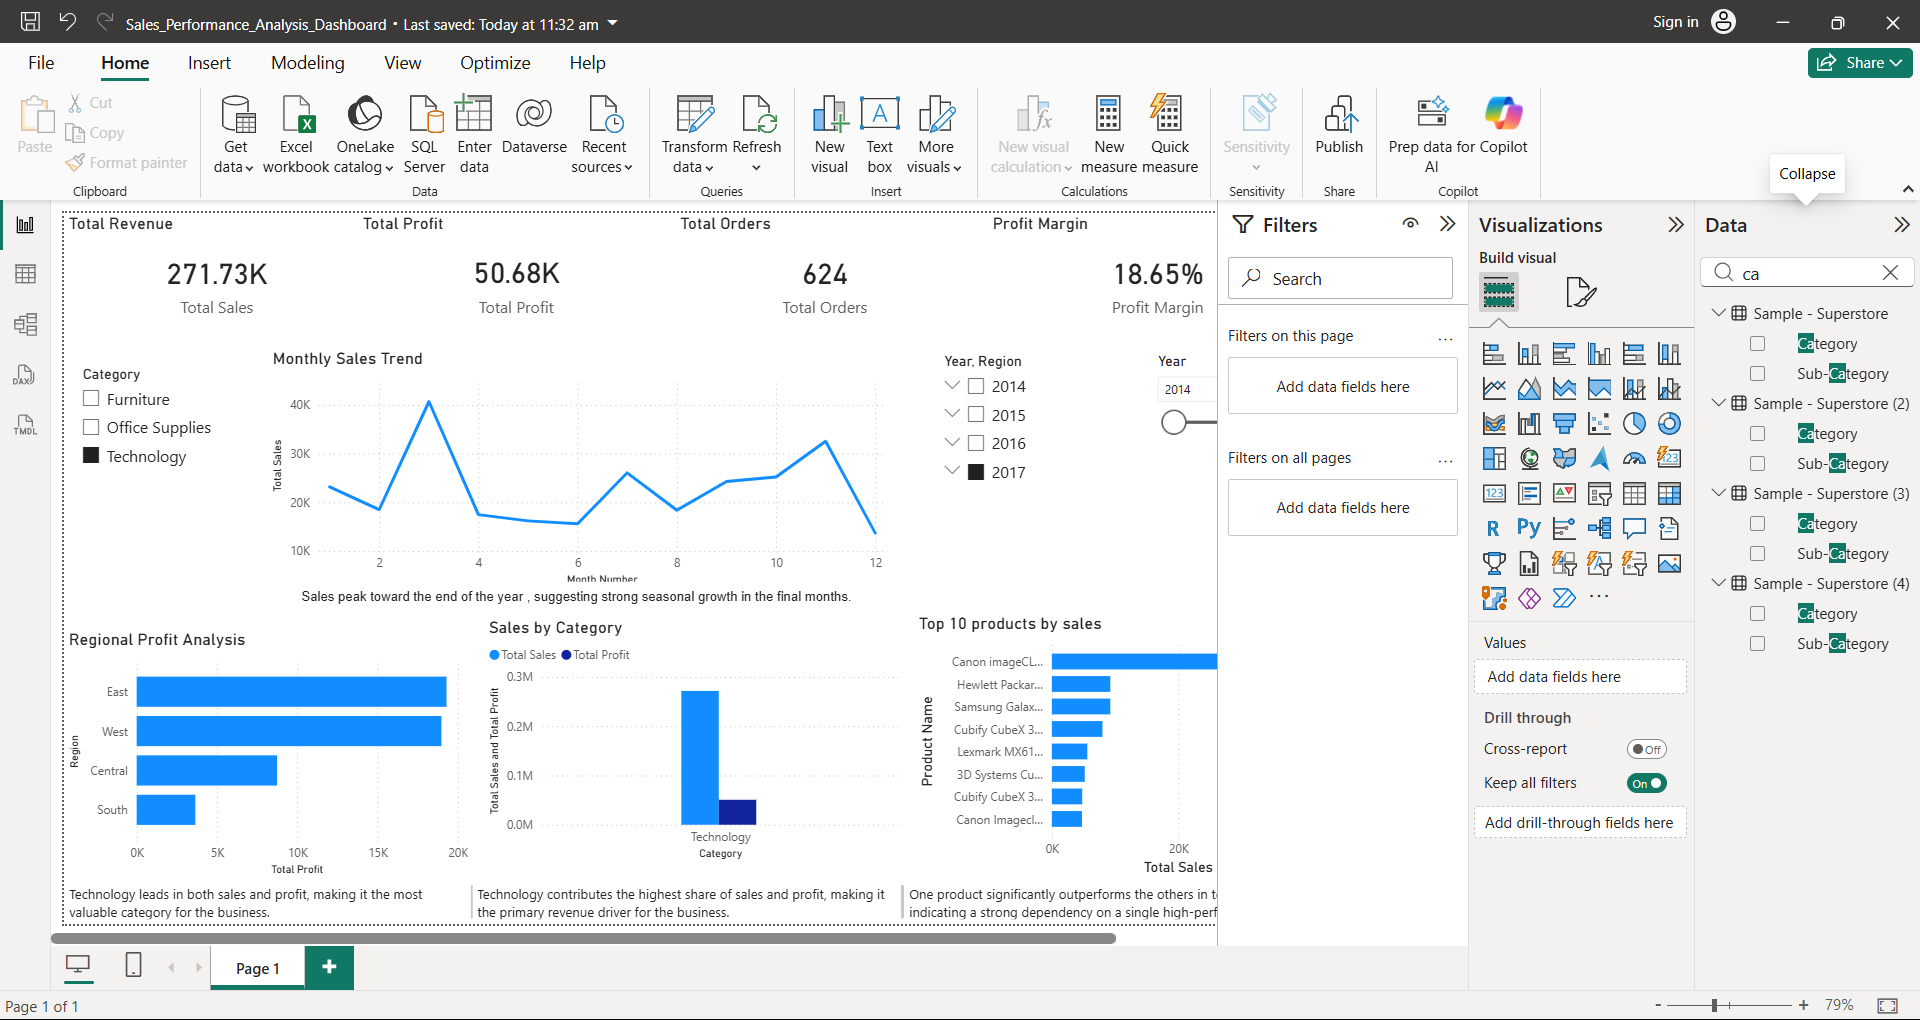

What the dashboard file says about the page in this screenshot:
{"tool":"powerbi","page":{"name":"Page 1","canvas":[1280,720],"ordinal":0},"visuals":[{"type":"card","title":"Total Revenue","fields":{"Values":["Sample - Superstore.Total Sales"]},"box":[0,0,310.1,122.1],"z":0},{"type":"card","title":"Total Profit","fields":{"Values":["Sample - Superstore.Total Profit"]},"box":[297.5,0,321.5,121.5],"z":1},{"type":"card","title":"Total Orders","fields":{"Values":["Sample - Superstore.Total Orders"]},"box":[618.9,0,303.3,122.1],"z":2},{"type":"card","title":"Profit Margin","fields":{"Values":["Sample - Superstore.Profit Margin"]},"box":[935.9,0,344.4,122.1],"z":3},{"type":"lineChart","title":"Monthly Sales Trend","fields":{"Y":["Sample - Superstore.Total Sales"],"Category":["Sample - Superstore.Month Number"]},"box":[206.3,136.7,630.4,245.6],"z":4},{"type":"clusteredColumnChart","title":"Sales by Category","fields":{"Category":["Sample - Superstore.Category"],"Y":["Sample - Superstore.Total Sales","Sample - Superstore.Total Profit"]},"box":[425.3,408.9,425.3,250.6],"z":5},{"type":"barChart","title":"Top 10 products by sales","fields":{"Y":["Sample - Superstore.Total Sales"],"Category":["Sample - Superstore.Product Name"]},"box":[860.8,405.1,419,270.9],"z":6},{"type":"clusteredBarChart","title":"Regional Profit Analysis","fields":{"Y":["Sample - Superstore.Total Profit"],"Category":["Sample - Superstore.Region"]},"box":[0,421.5,413.9,254.4],"z":7},{"type":"slicer","fields":{"Values":["Sample - Superstore.Year","Sample - Superstore.Region"]},"box":[878.2,137.2,192.1,222.3],"z":8},{"type":"slicer","fields":{"Values":["Sample - Superstore.Year"]},"box":[1095,137.2,175.6,201.7],"z":9},{"type":"slicer","fields":{"Values":["Sample - Superstore.Category"]},"box":[6.9,149.6,200.3,209.9],"z":10},{"type":"textbox","box":[236,373.2,579.1,31.6],"z":11},{"type":"textbox","box":[0,675.9,425.3,44.3],"z":12},{"type":"textbox","box":[413.9,675.9,446.8,44.3],"z":13},{"type":"textbox","box":[850.6,675.9,429.1,44.3],"z":14}]}

Visuals, with their boxes on the page's 1280x720 design canvas (x1, y1, x2, y2). These are canvas units, not pixel positions in the 1920x1020 screenshot, which may show the page scaled, cropped or inside an application window:
"Total Revenue" card: [x1=0, y1=0, x2=310, y2=122]
"Total Profit" card: [x1=298, y1=0, x2=619, y2=122]
"Total Orders" card: [x1=619, y1=0, x2=922, y2=122]
"Profit Margin" card: [x1=936, y1=0, x2=1280, y2=122]
"Monthly Sales Trend" lineChart: [x1=206, y1=137, x2=837, y2=382]
"Sales by Category" clusteredColumnChart: [x1=425, y1=409, x2=851, y2=660]
"Top 10 products by sales" barChart: [x1=861, y1=405, x2=1280, y2=676]
"Regional Profit Analysis" clusteredBarChart: [x1=0, y1=422, x2=414, y2=676]
slicer - Sample - Superstore.Year x Sample - Superstore.Region: [x1=878, y1=137, x2=1070, y2=360]
slicer - Sample - Superstore.Year: [x1=1095, y1=137, x2=1271, y2=339]
slicer - Sample - Superstore.Category: [x1=7, y1=150, x2=207, y2=360]
textbox: [x1=236, y1=373, x2=815, y2=405]
textbox: [x1=0, y1=676, x2=425, y2=720]
textbox: [x1=414, y1=676, x2=861, y2=720]
textbox: [x1=851, y1=676, x2=1280, y2=720]
